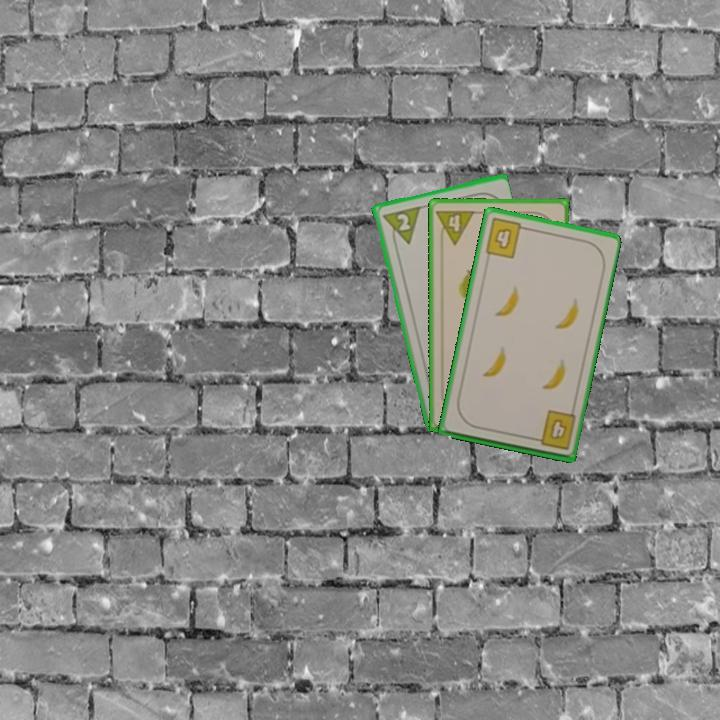2p: (378, 202, 422, 250)
4b: (481, 214, 531, 261), (529, 407, 579, 453)
4p: (433, 206, 477, 247)
